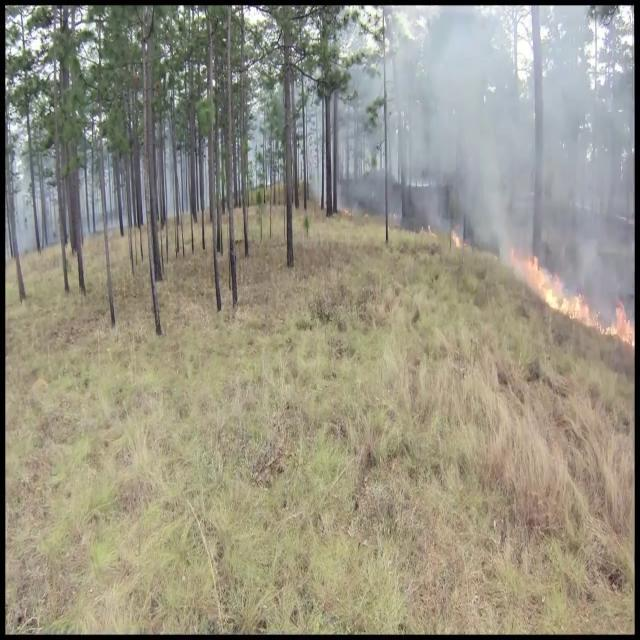Fire: (519, 247, 591, 325)
Smoke: (388, 4, 634, 269)
